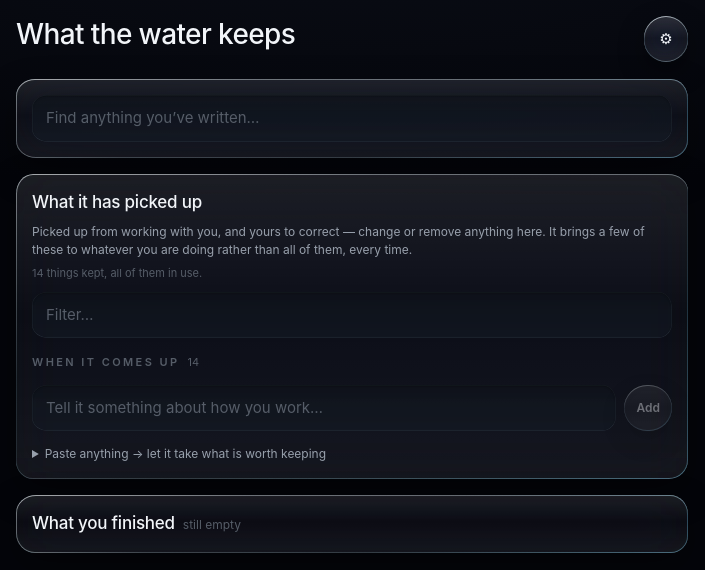
memory that can grow to a hundred › says so rather than looking empty when the filter matches nothing
Type "zzzz" into the field named "Filter what it has picked up" at [352, 315], box x1=32 y1=292 x2=672 y2=338
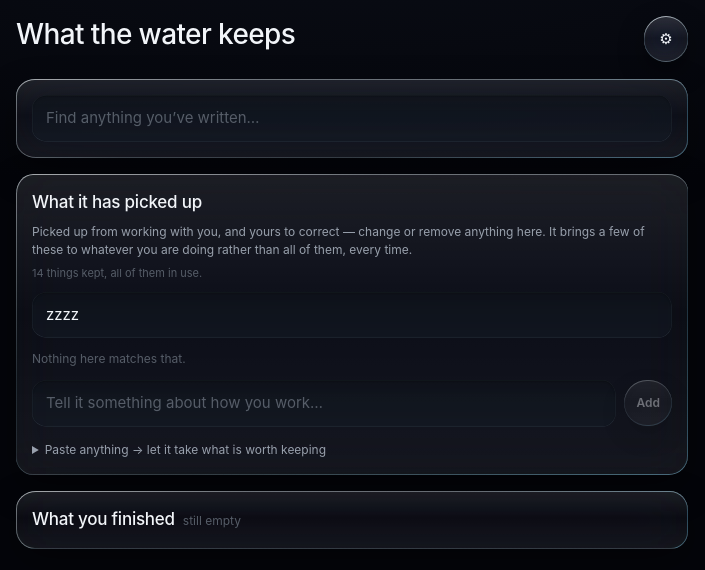
Result: the text "Nothing here matches that." is shown at x1=32 y1=351 x2=186 y2=366
